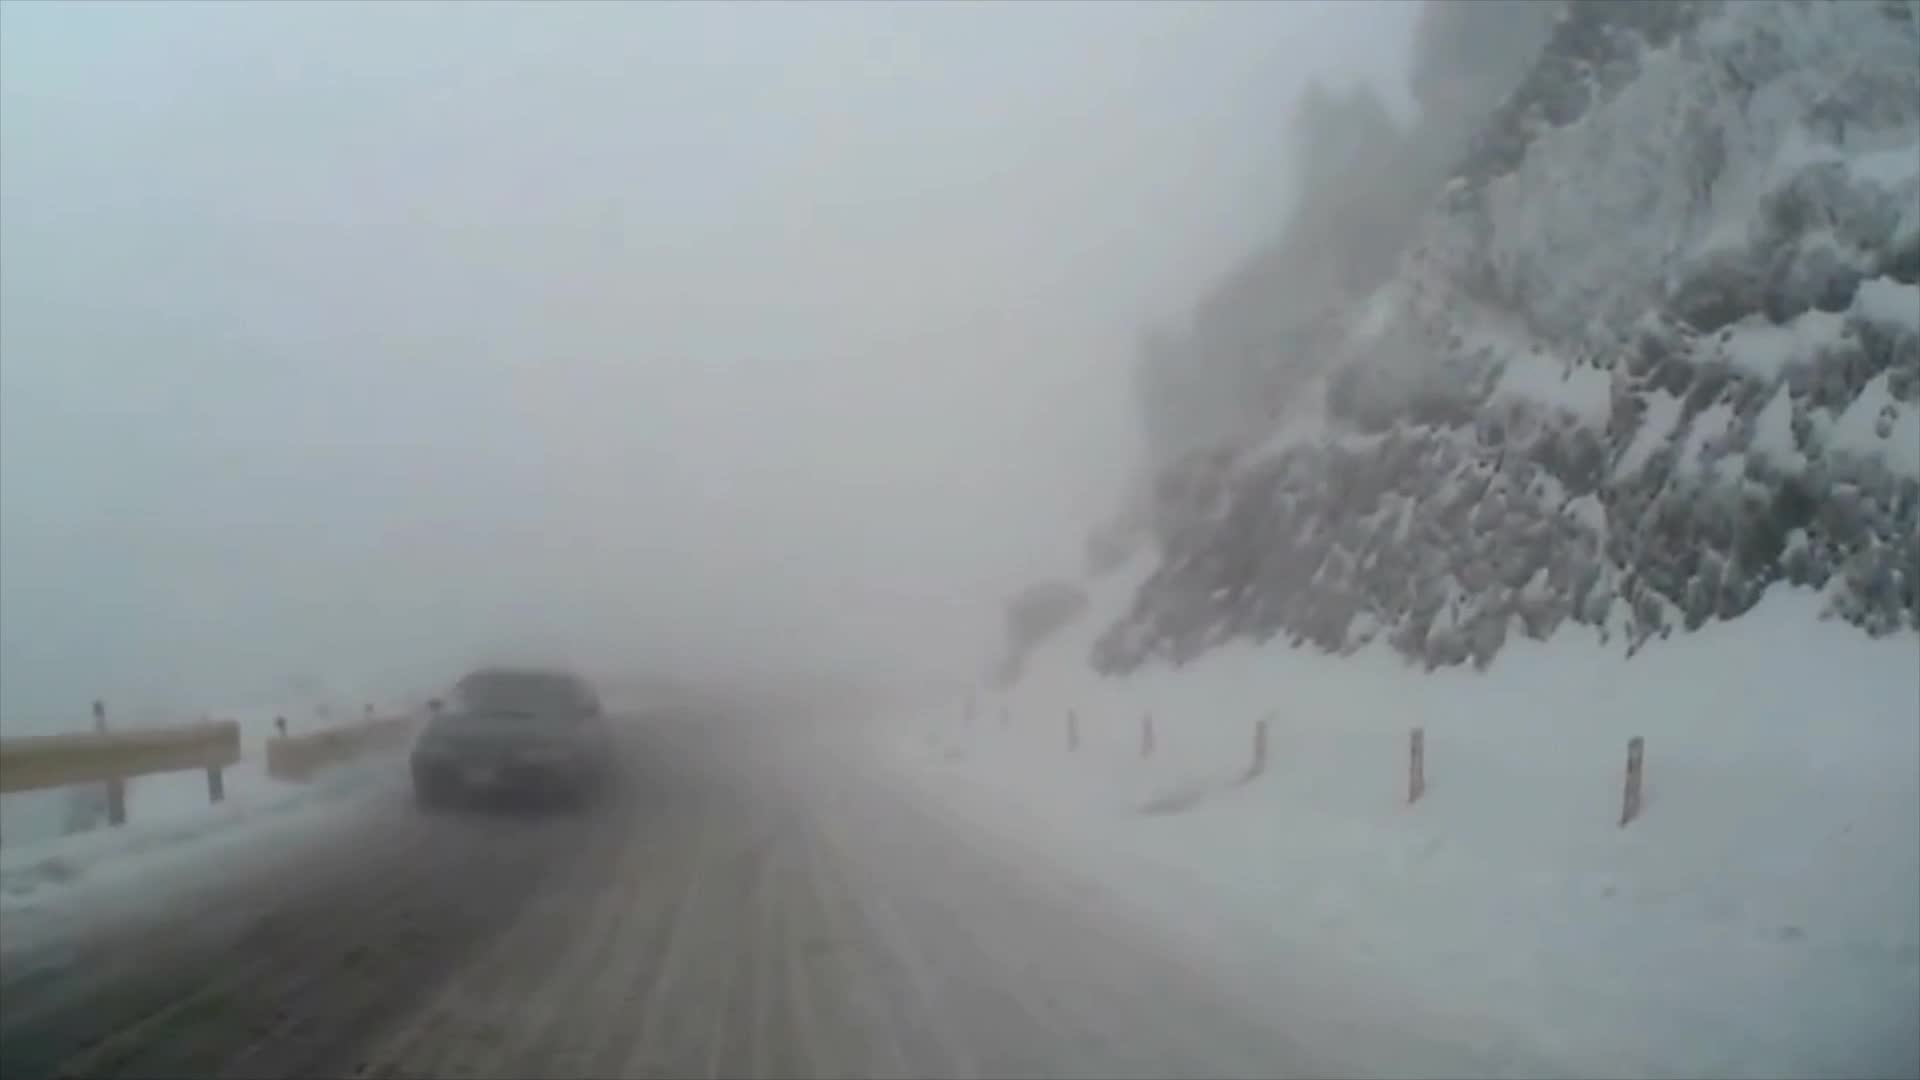vehicle: (407, 665, 615, 816)
